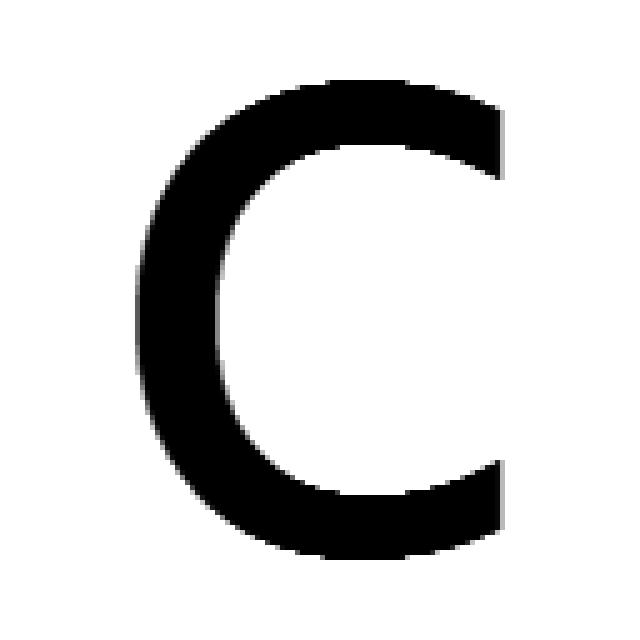C: (140, 80, 505, 560)
